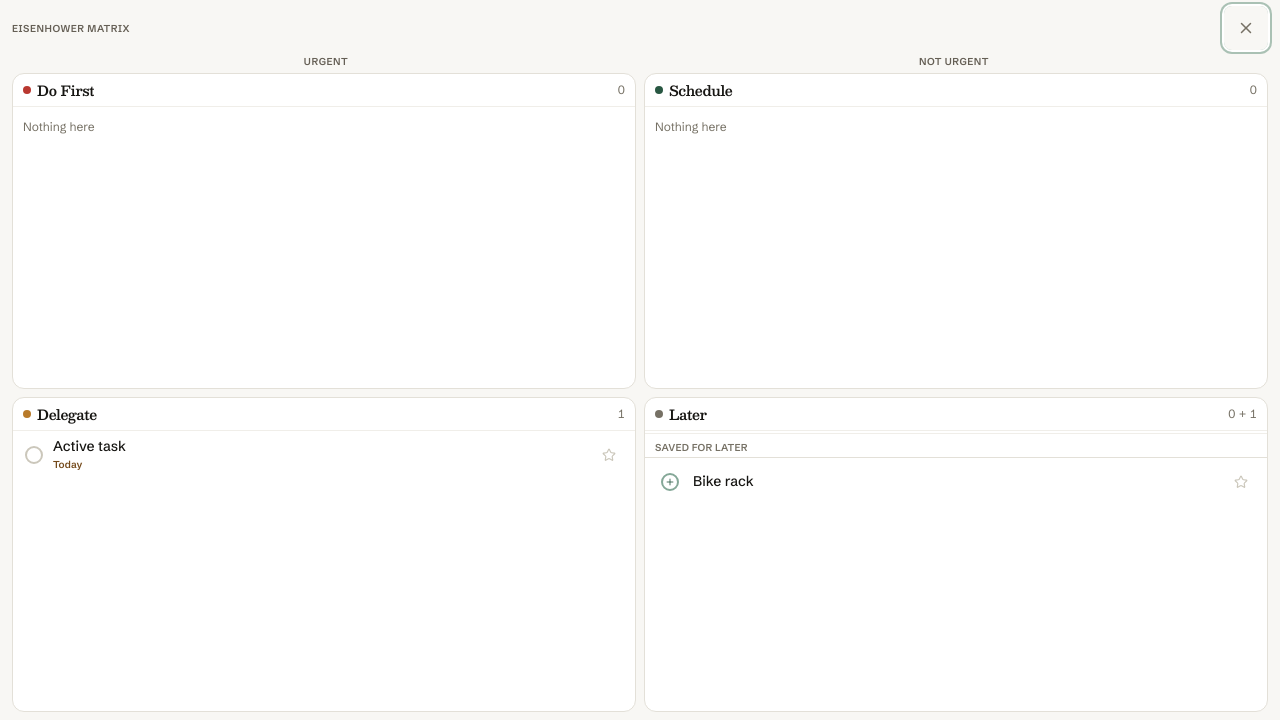
Test case: ToDosPage — Saved for later section › opens the promote sheet from the + control
Click the button named "Add to your list: Bike rack" at (670, 482), box [647, 458, 693, 504]
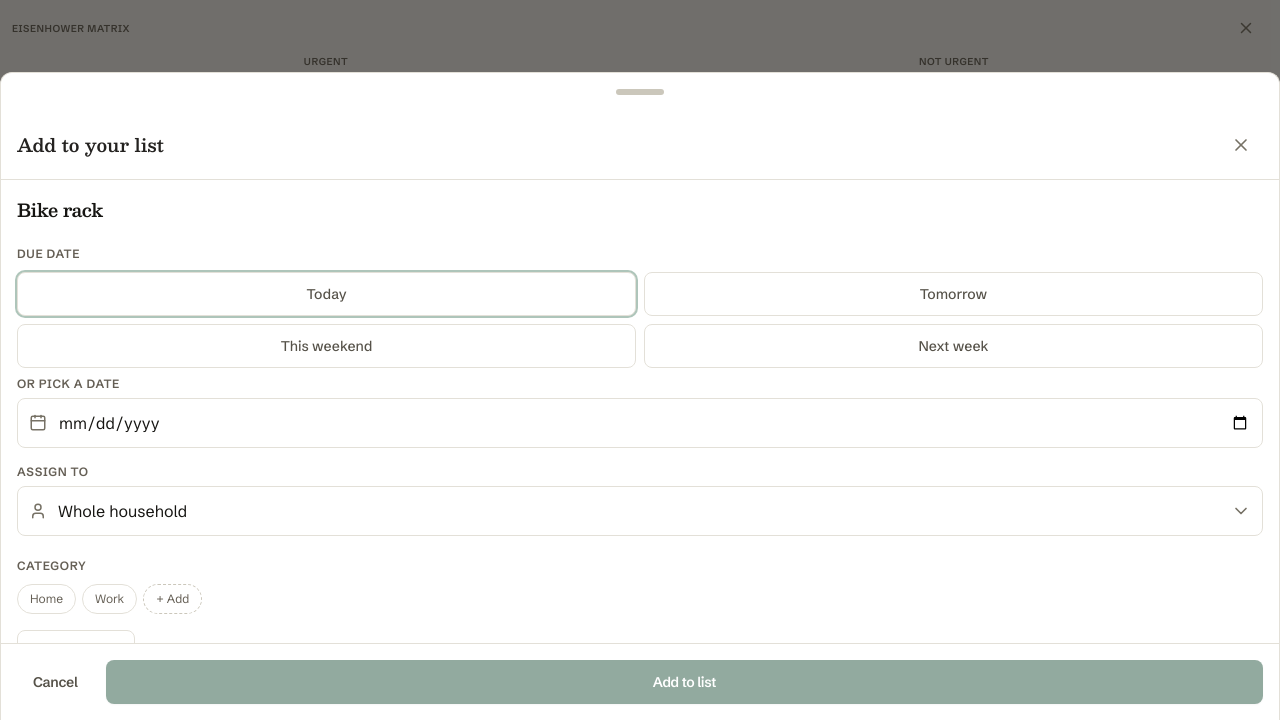
Check: the button "Add to list" is disabled, box [106, 660, 1263, 704]
